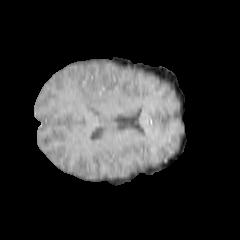glioma: (71, 79, 115, 113)
